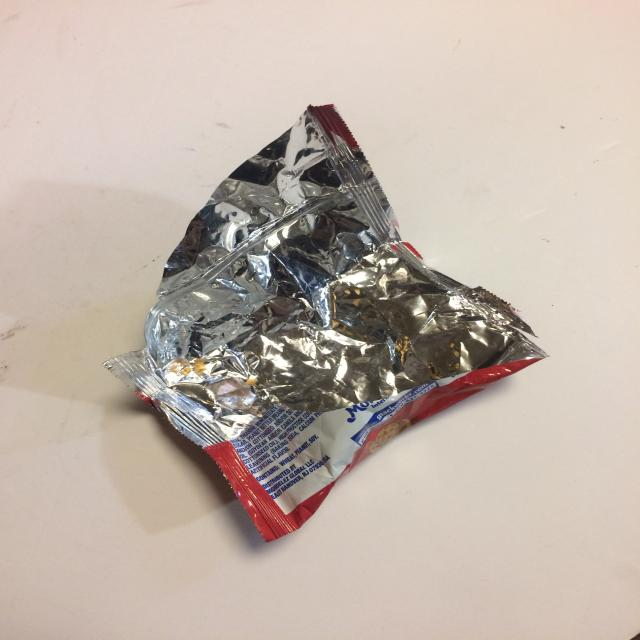trash: (102, 103, 550, 542)
